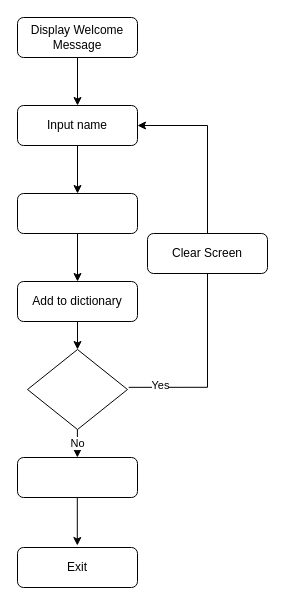
This 285x605 diagram has some shape labels left out. The centre of each missing label's shape, as x and y in pixels:
"Are there any other bidders?" goes at (x=77, y=389).
"Display Winner" goes at (x=77, y=477).
"Input bid" goes at (x=77, y=213).
